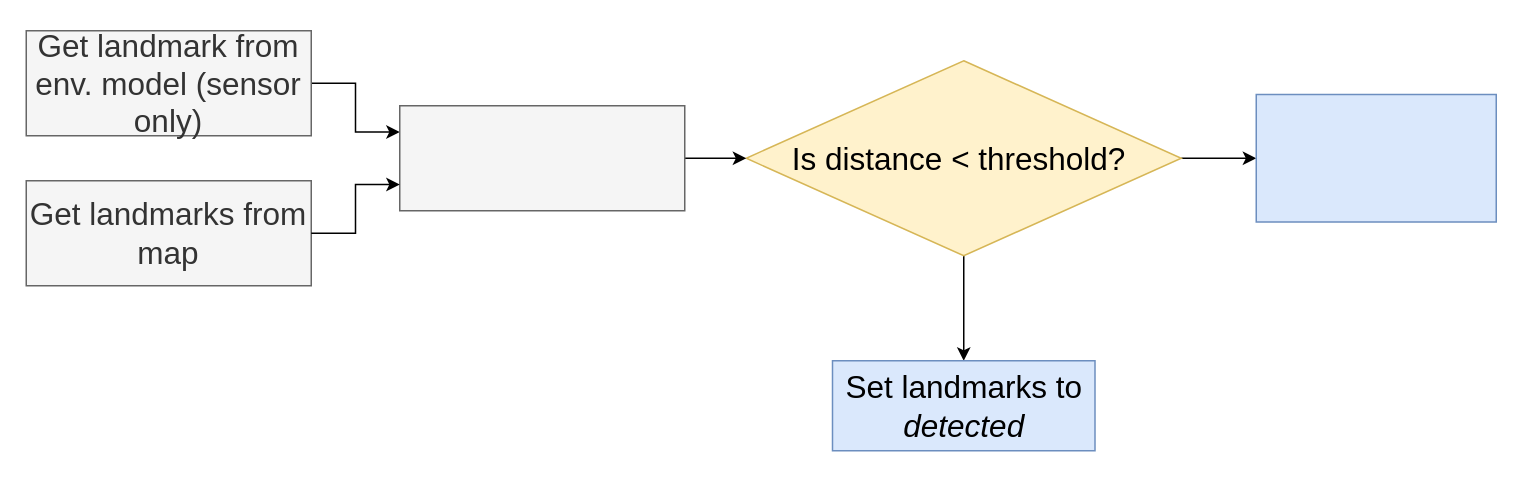
Image size: 1523x477. Some labels were removed from this diagram. The shapes that lost their labels are listed below. From the top down, each one's box as (x1, y1, x2, y2) in pixels, then its label:
(398, 104, 685, 211): Compute distance
(1255, 93, 1496, 222): Set landmark to not-detected
